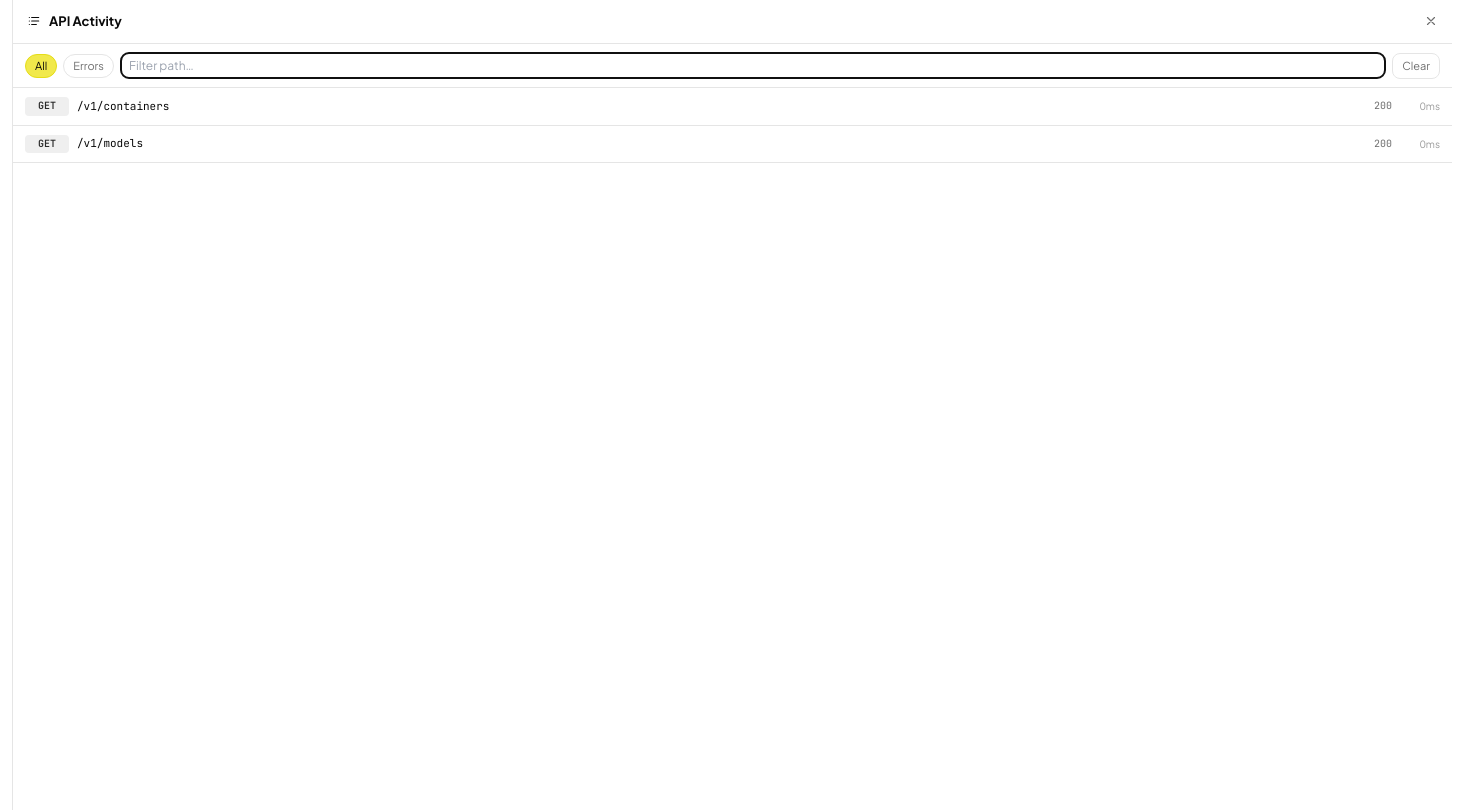
Test: ApiActivityPanel › filters by path query
Type "models" into the field with placeholder "Filter path…".
click(753, 66); type("models")  # box [120, 52, 1386, 79]
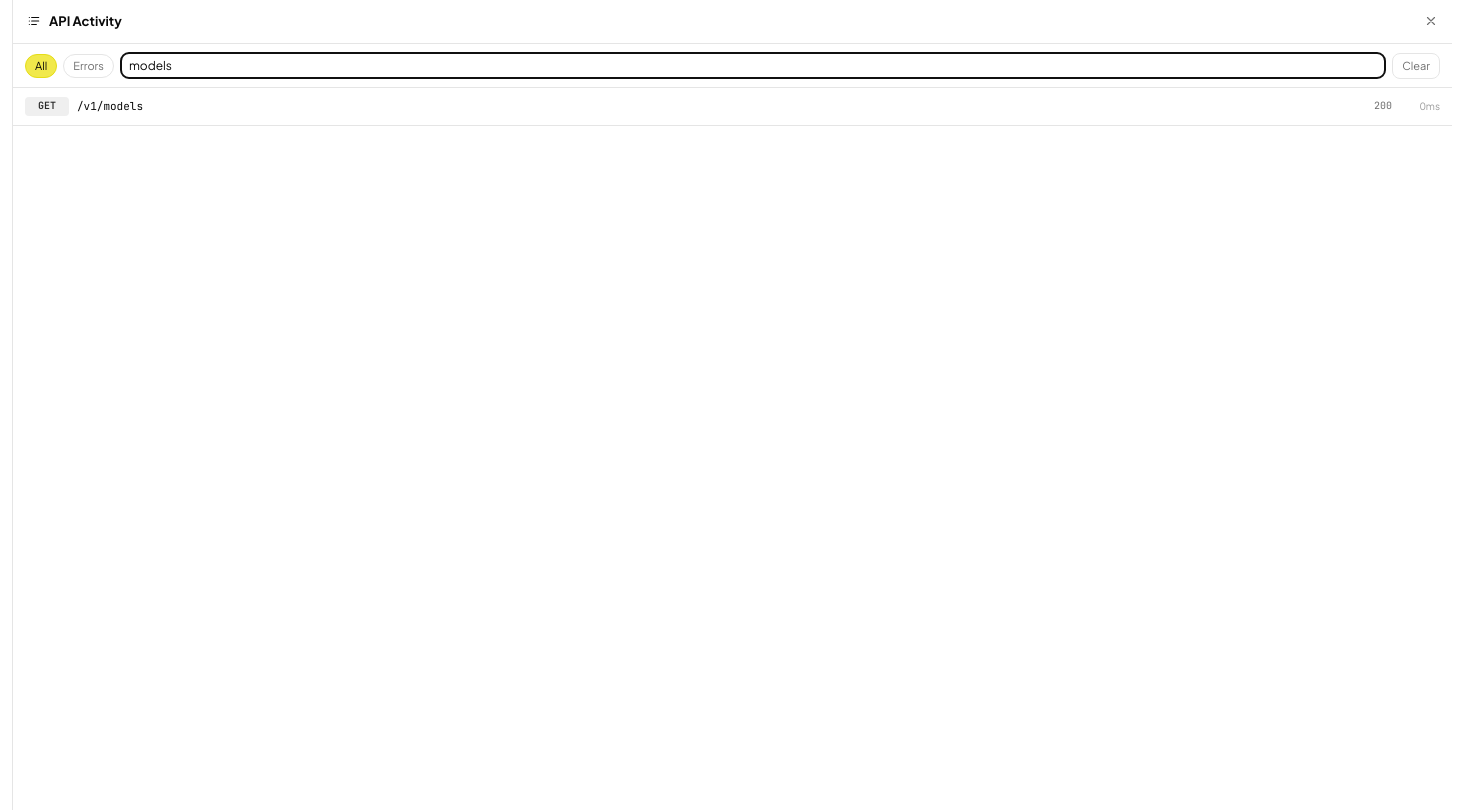
Check: the text "/v1/models" is shown, box [77, 98, 143, 112]
Check: the button "/v1/containers" is gone
